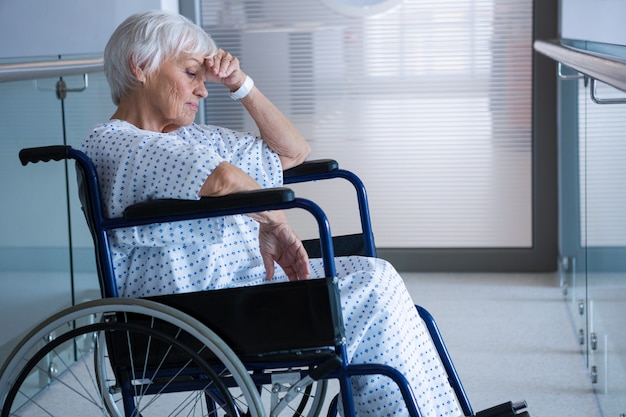wheelchair: (9, 9, 527, 417)
